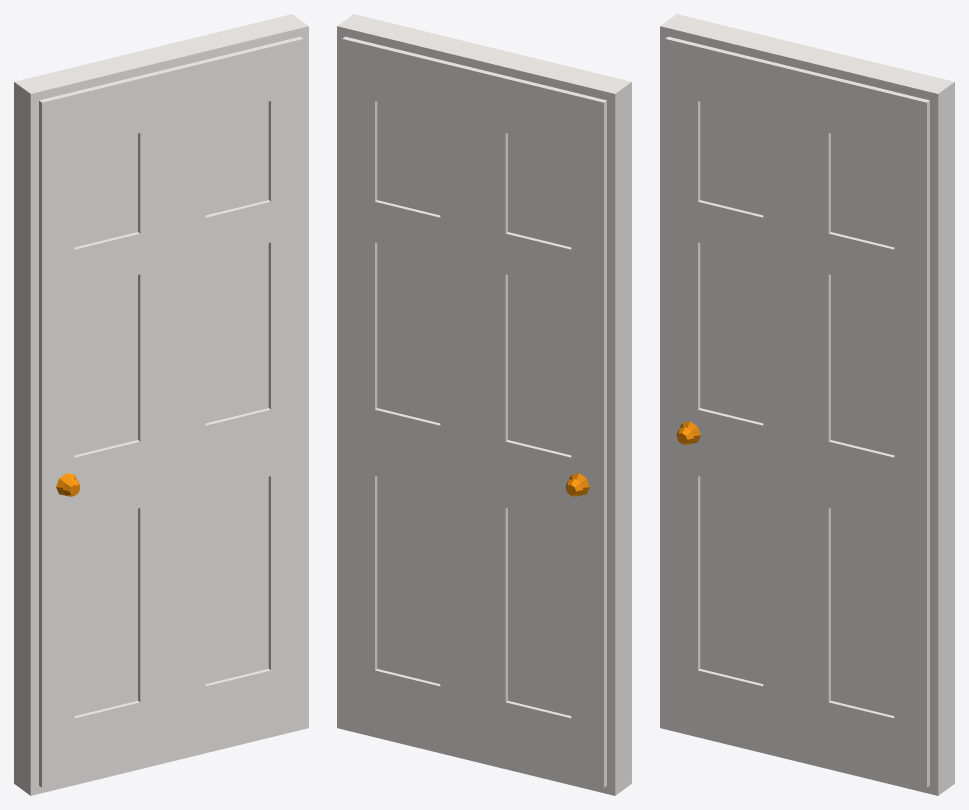
Rendered from DOOR.fbx.
3 renders of one model, left to right at view 1: azimuth 30°, elevation 25°; view 2: azimuth 150°, elevation 25°; view 3: azimuth 330°, elevation 25°, orthographic.
Visible parts, largest first — view 1: Door_1.004; view 2: Door_1.004; view 3: Door_1.004.
Boxes of the visible parts, x1,y1,x2,y2 form: Door_1.004: (14,14,308,795); Door_1.004: (337,14,631,795); Door_1.004: (660,14,954,795).
Bounding box in the file's own units: 24.25 × 58.51 × 5.87.
